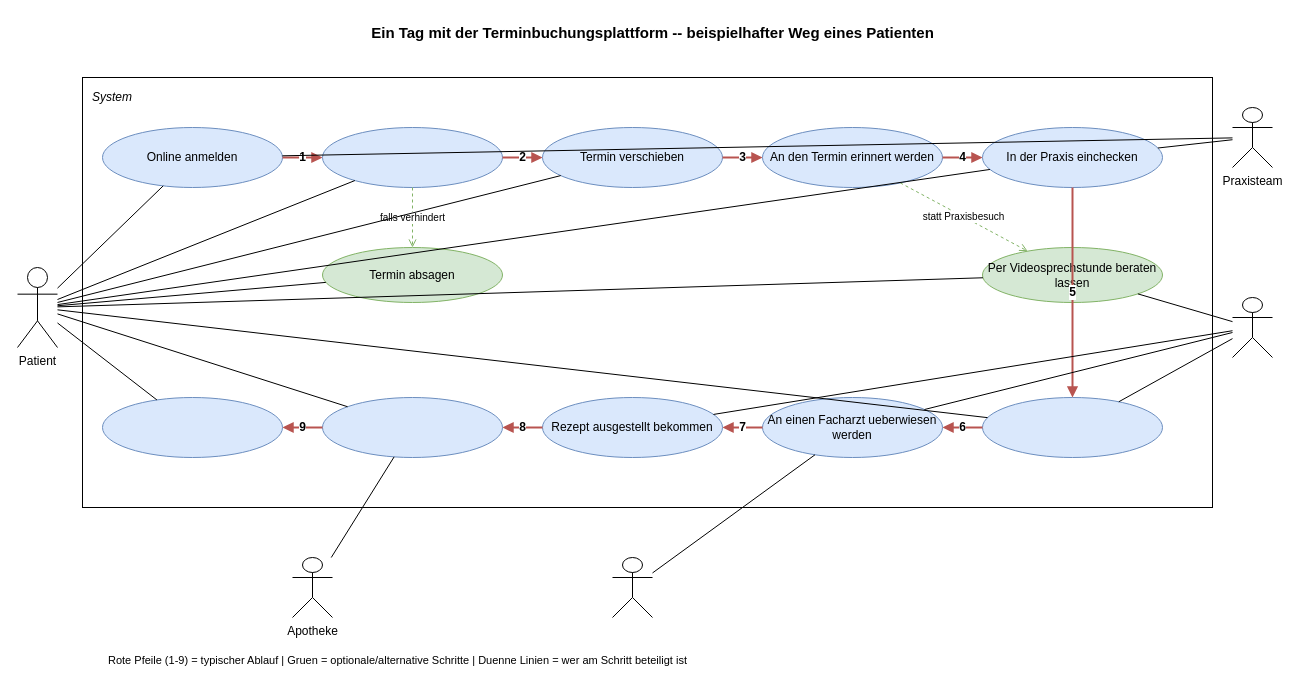
The diagram is 1300 pixels wide and 694 high, and some of its shapes have lost their labels. The shapes that lost their labels are listed below. From the top down, each one's centre as x and y in pixels, then its label:
At (412,157): "Passenden Termin finden und buchen".
At (1252,327): "Arzt".
At (192,427): "Folgetermin vereinbaren".
At (412,427): "Medikament in der Apotheke abholen".
At (1072,427): "Untersuchung und Diagnose erhalten".
At (632,587): "Facharzt".
